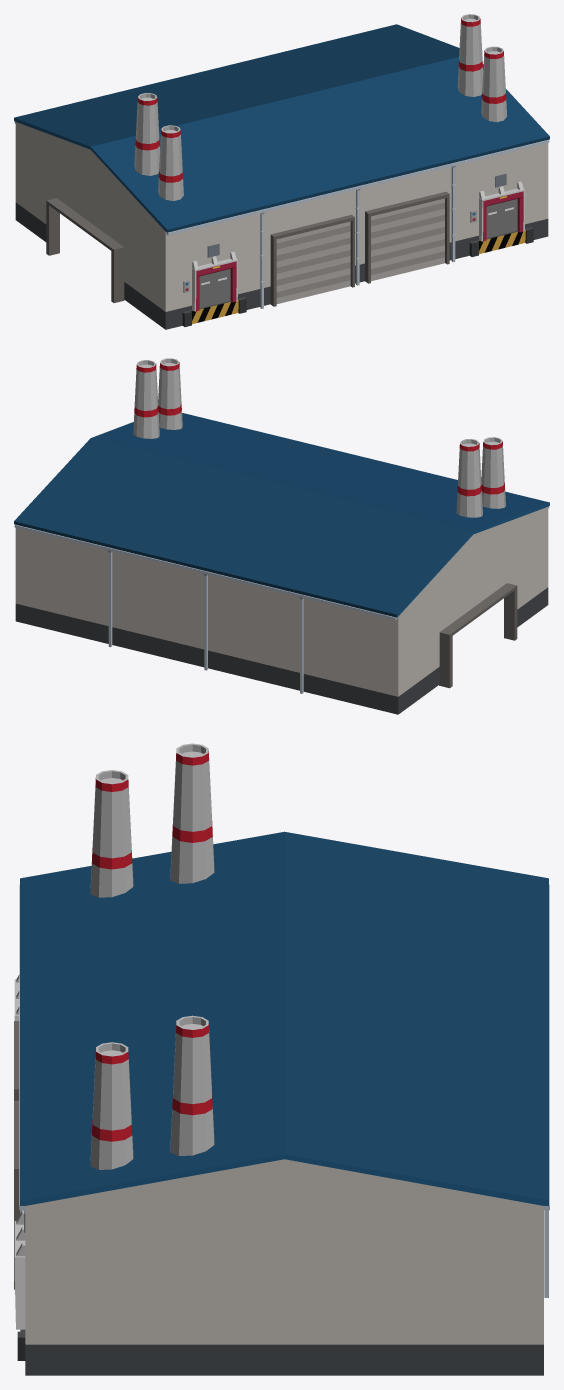
File: Factory001.fbx
3 renders of one model, top to bottom at view 1: azimuth 30°, elevation 25°; view 2: azimuth 150°, elevation 25°; view 3: azimuth 270°, elevation 25°, orthographic. The views are drawn at different scales.
Visible parts, largest first — view 1: Factory001; view 2: Factory001; view 3: Factory001.
Boxes of the visible parts, <box> form: Factory001: <box>14,14,549,329</box>; Factory001: <box>14,358,549,714</box>; Factory001: <box>14,743,549,1375</box>.
Size of the model in its own units: 2445 by 1137 by 1673.
